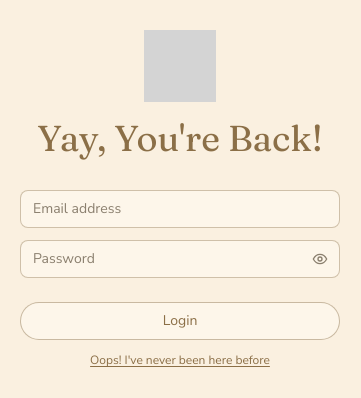
Test: AuthForm › surfaces a plain detail message from the API
This screenshot has width=361, height=398.
Type "a@example.com" into the field labelled "Email address".
click(180, 209); type("a@example.com")  # box [20,190,340,228]
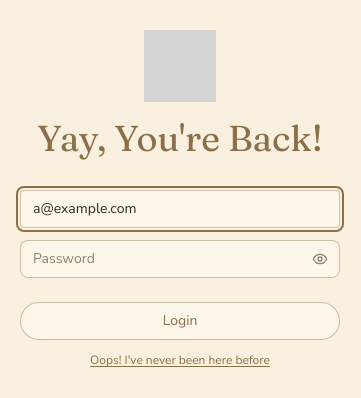
Type "pw-123-abc" into the password field labelled "Password".
click(180, 259); type("pw-123-abc")  # box [20,240,340,278]
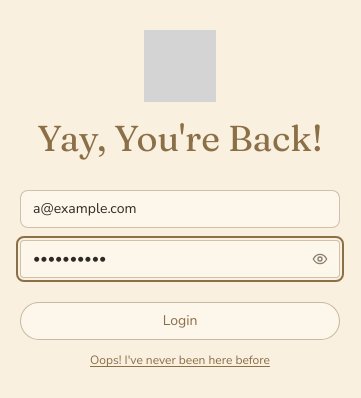
Click the button "Login".
click(180, 321)  # box [20,302,340,340]
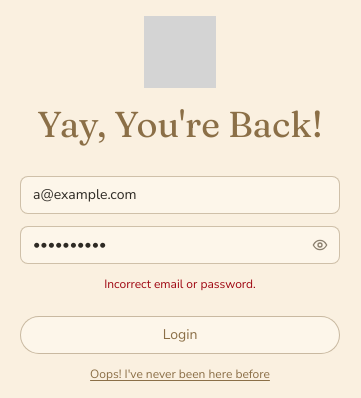
Result: the message reads "Incorrect email or password." at [104,276,256,292]
